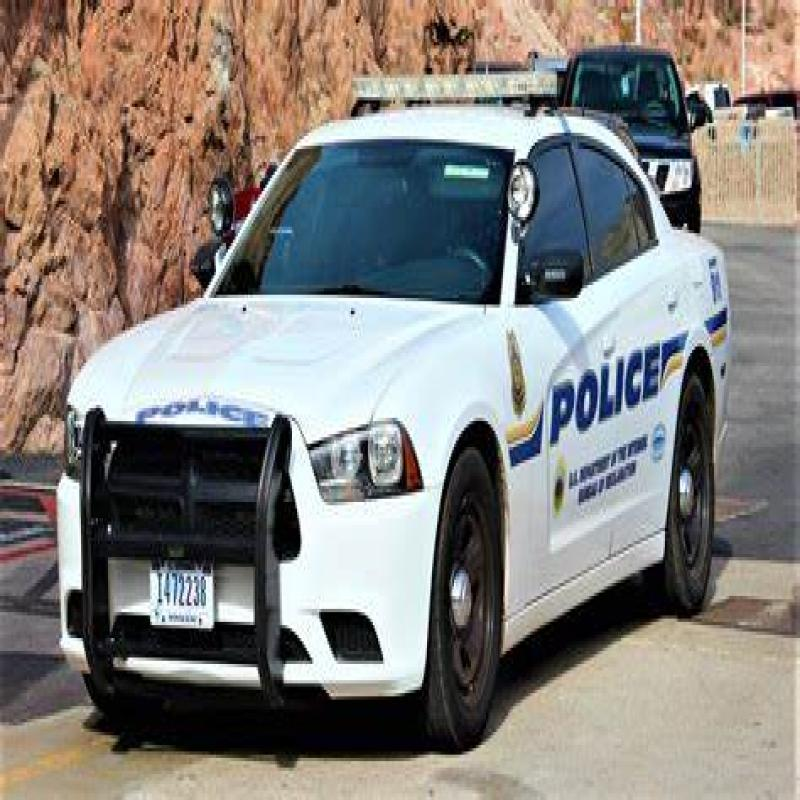AmbulanceSiren: (342, 55, 577, 113)
